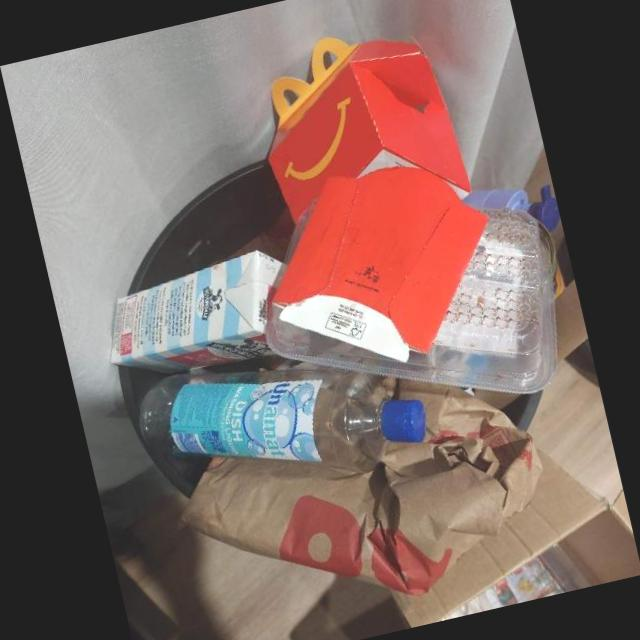carton: (268, 36, 471, 275), (271, 165, 489, 362)
chai_nhua: (139, 369, 426, 473)
vo_hop_sua: (109, 250, 313, 374)
